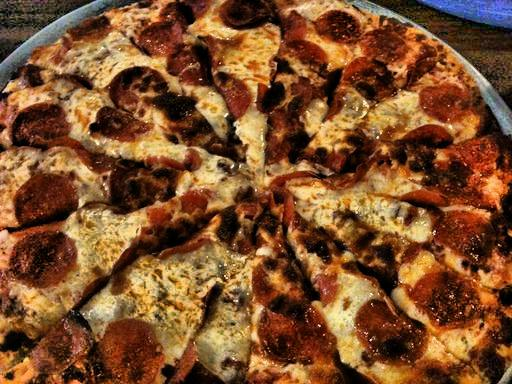pizza: (3, 3, 512, 384)
